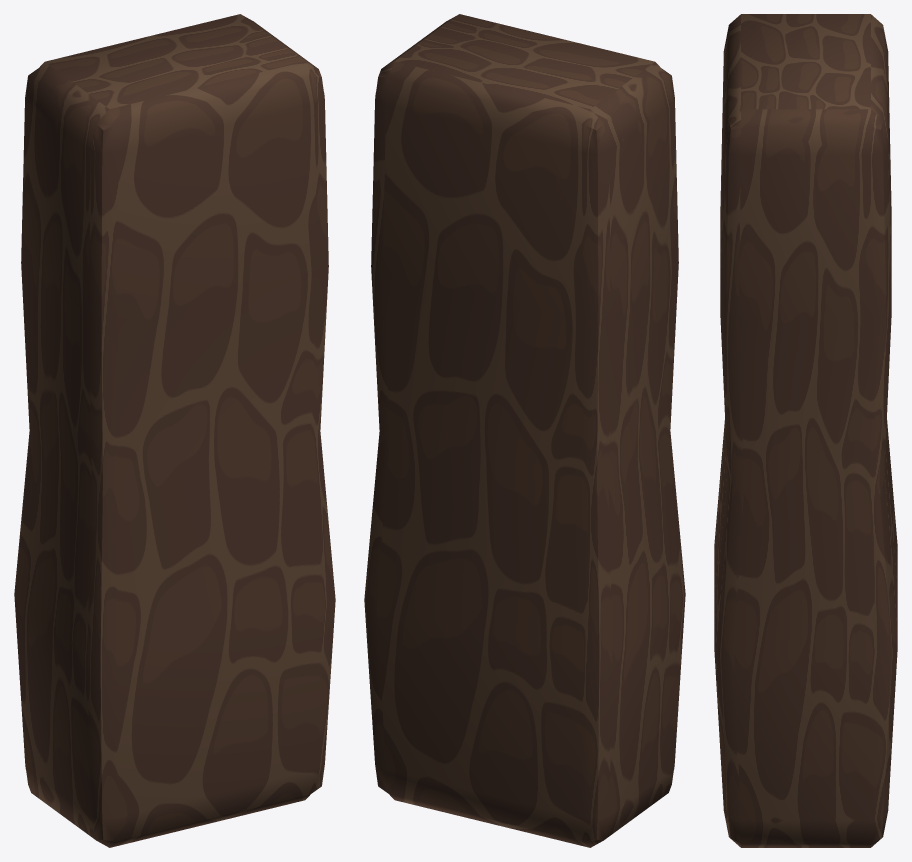
Rendered from M_Level_1.fbx.
3 views of the same model, side by side, from view 1: azimuth 30°, elevation 25°; view 2: azimuth 150°, elevation 25°; view 3: azimuth 270°, elevation 25° (orthographic).
Visible parts, largest first — view 1: Cube; view 2: Cube; view 3: Cube.
Boxes of the visible parts, bbox=[...] form: Cube: bbox=[14, 14, 335, 847]; Cube: bbox=[364, 14, 685, 847]; Cube: bbox=[714, 14, 897, 847].
Size of the model in its own units: 728 by 2076 by 468.
1 material, 1 textured.
